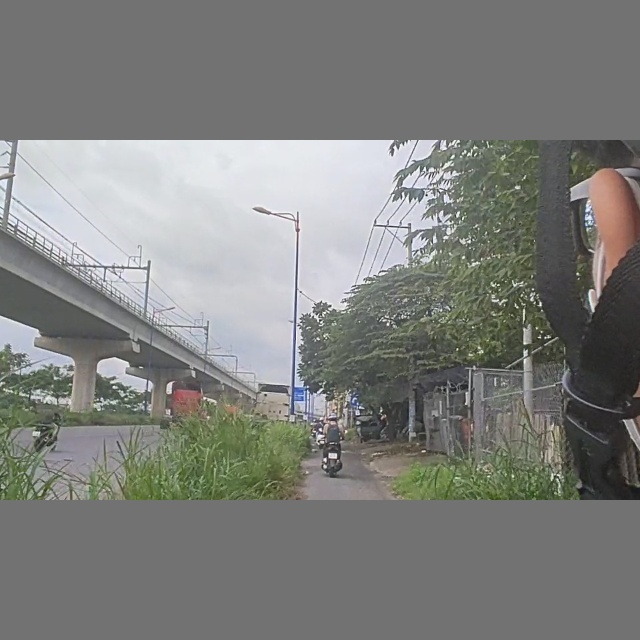I.409: (349, 395, 364, 407)
